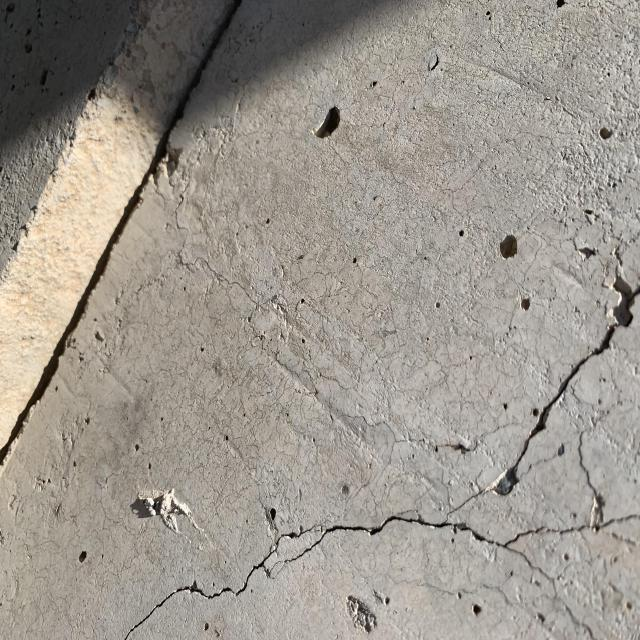diagonal crack: (0, 0, 257, 475)
multi-branched crack: (128, 241, 640, 640)
